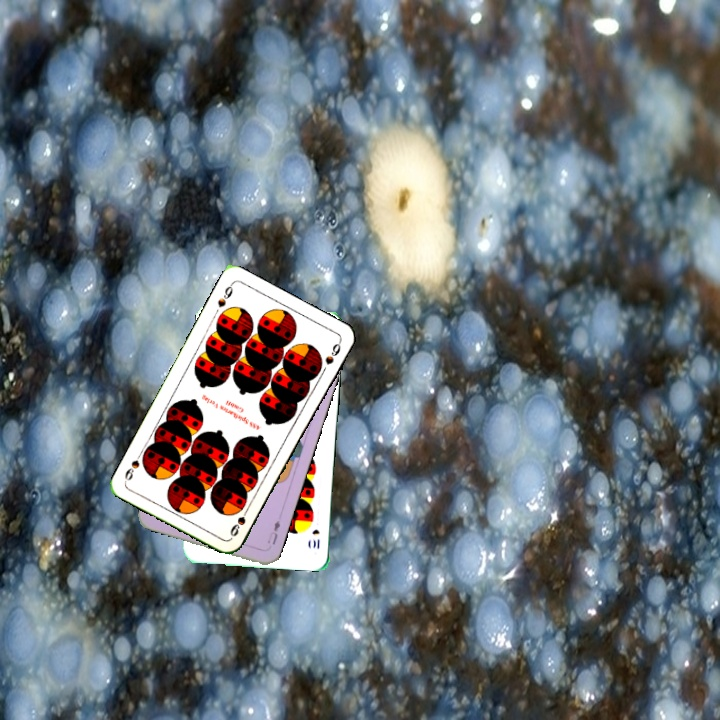EU: (263, 516, 283, 547)
S10: (308, 525, 322, 552)
S9: (226, 502, 252, 539), (213, 279, 235, 310)
